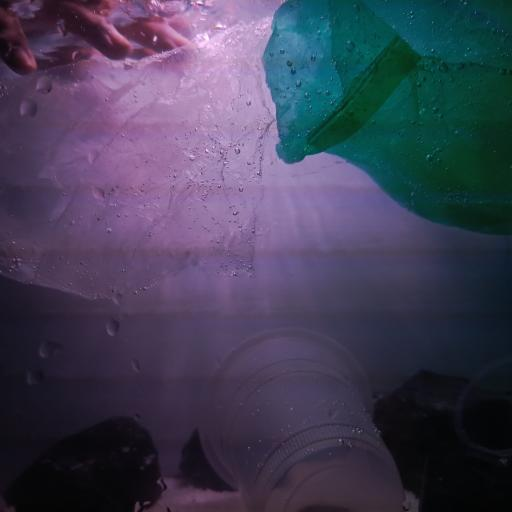plastic_bag: (0, 33, 277, 302), (260, 0, 512, 237)
plastic_cup: (195, 325, 407, 512)
